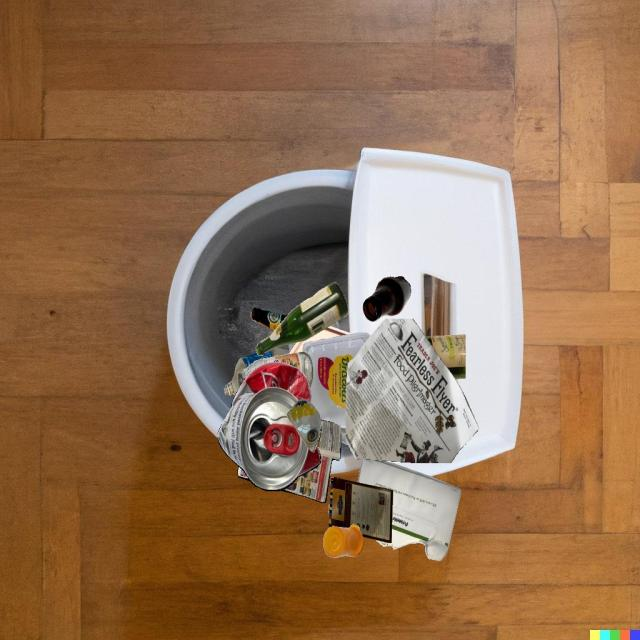cardboard: (329, 477, 393, 543), (328, 504, 330, 513)
combustible waste: (289, 326, 352, 354)
glass: (255, 282, 348, 356), (238, 352, 313, 387), (363, 276, 411, 322), (287, 398, 321, 452), (425, 334, 465, 379), (251, 307, 289, 331)
metal: (218, 362, 321, 491)
paper: (346, 319, 479, 463), (358, 459, 461, 561), (281, 420, 341, 503)
plastic: (302, 332, 370, 428), (224, 348, 290, 395), (323, 524, 364, 558), (341, 428, 348, 445), (289, 342, 297, 352), (330, 321, 339, 329)
